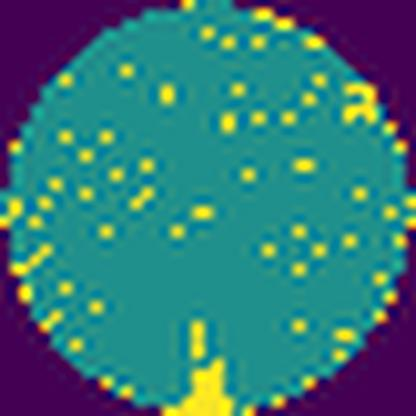Edge-Loc: (161, 356, 238, 416), (344, 78, 383, 132)
